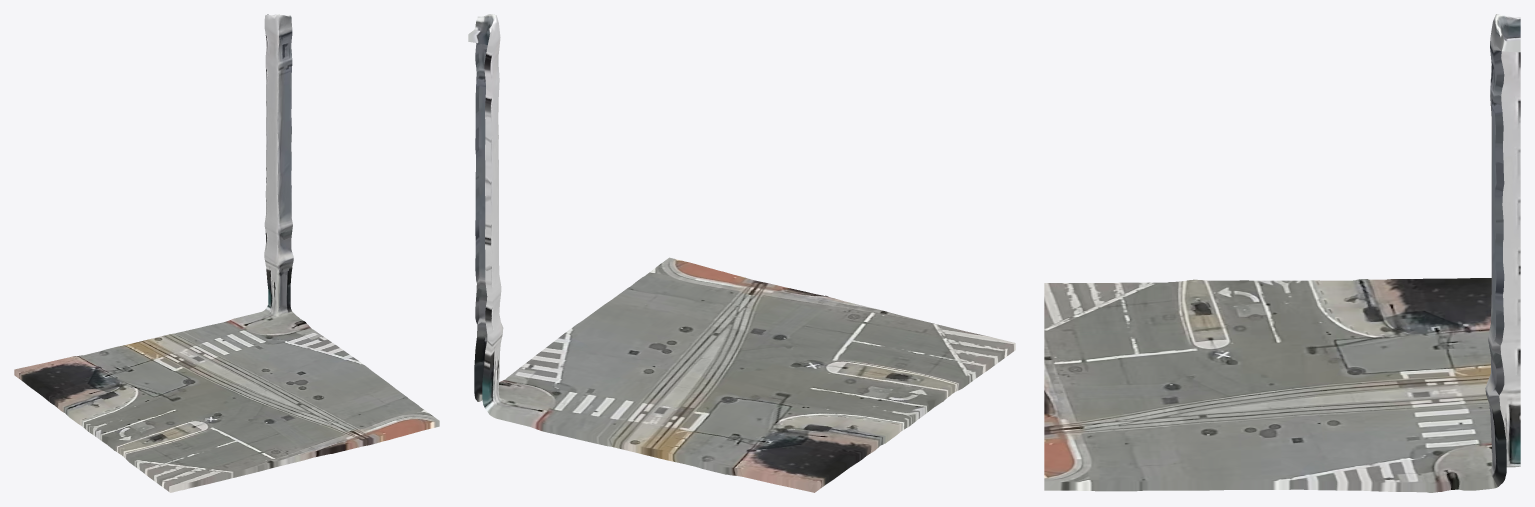
The model's file is z20-167782-405227-h0-yup-uvflip-v3-world.glb.
3 views of the same model, side by side, from view 1: azimuth 30°, elevation 25°; view 2: azimuth 150°, elevation 25°; view 3: azimuth 270°, elevation 25° (orthographic). The views are drawn at different scales.
Size of the model in its own units: 30.16 by 32.92 by 30.32.
1 material, 1 textured.
